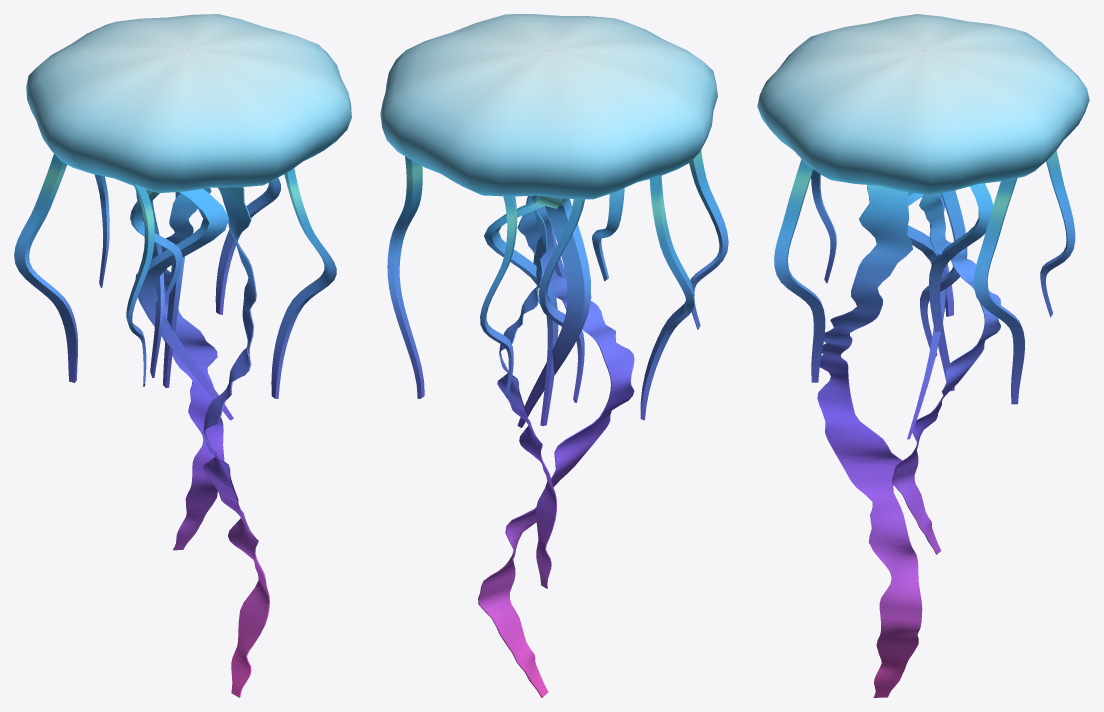
The model's file is JellyFish06.fbx.
3 views of the same model, side by side, from view 1: azimuth 30°, elevation 25°; view 2: azimuth 150°, elevation 25°; view 3: azimuth 270°, elevation 25° (orthographic). The views are drawn at different scales.
Parts seen in each view (by area): view 1: JellyFish06; view 2: JellyFish06; view 3: JellyFish06.
Boxes of the visible parts, x1=… form: JellyFish06: x1=14, y1=14, x2=351, y2=697; JellyFish06: x1=380, y1=14, x2=728, y2=697; JellyFish06: x1=757, y1=14, x2=1089, y2=697.
Bounding box in the file's own units: 0.1629 × 0.3299 × 0.1566.
1 material, 1 textured.
